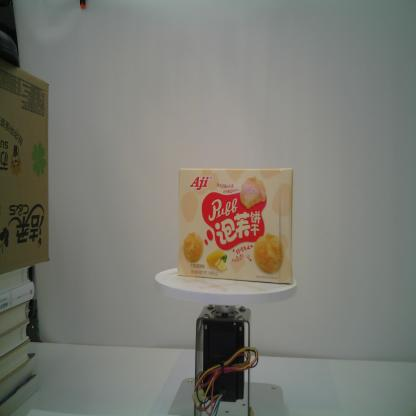Dessert: (177, 166, 294, 286)
